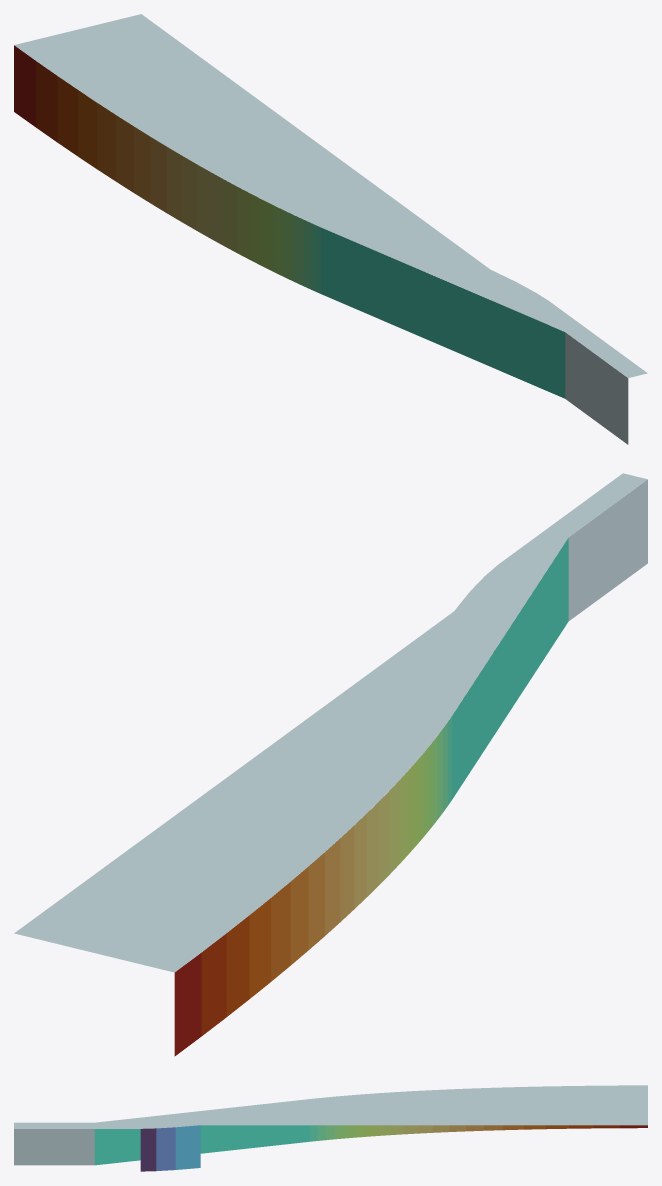
Rendered from scramjet_n22_m4.glb.
3 views of the same model, one above another, from view 1: azimuth 30°, elevation 25°; view 2: azimuth 150°, elevation 25°; view 3: azimuth 270°, elevation 25° (orthographic). The views are drawn at different scales.
Parts seen in each view (by area): view 1: mesh0; view 2: mesh0; view 3: mesh0.
Part boxes in pixels (x1=…): mesh0: x1=14, y1=14, x2=647, y2=444; mesh0: x1=14, y1=473, x2=647, y2=1056; mesh0: x1=14, y1=1085, x2=647, y2=1171.
Bounding box in the file's own units: 1.09 × 0.5004 × 6.72.
